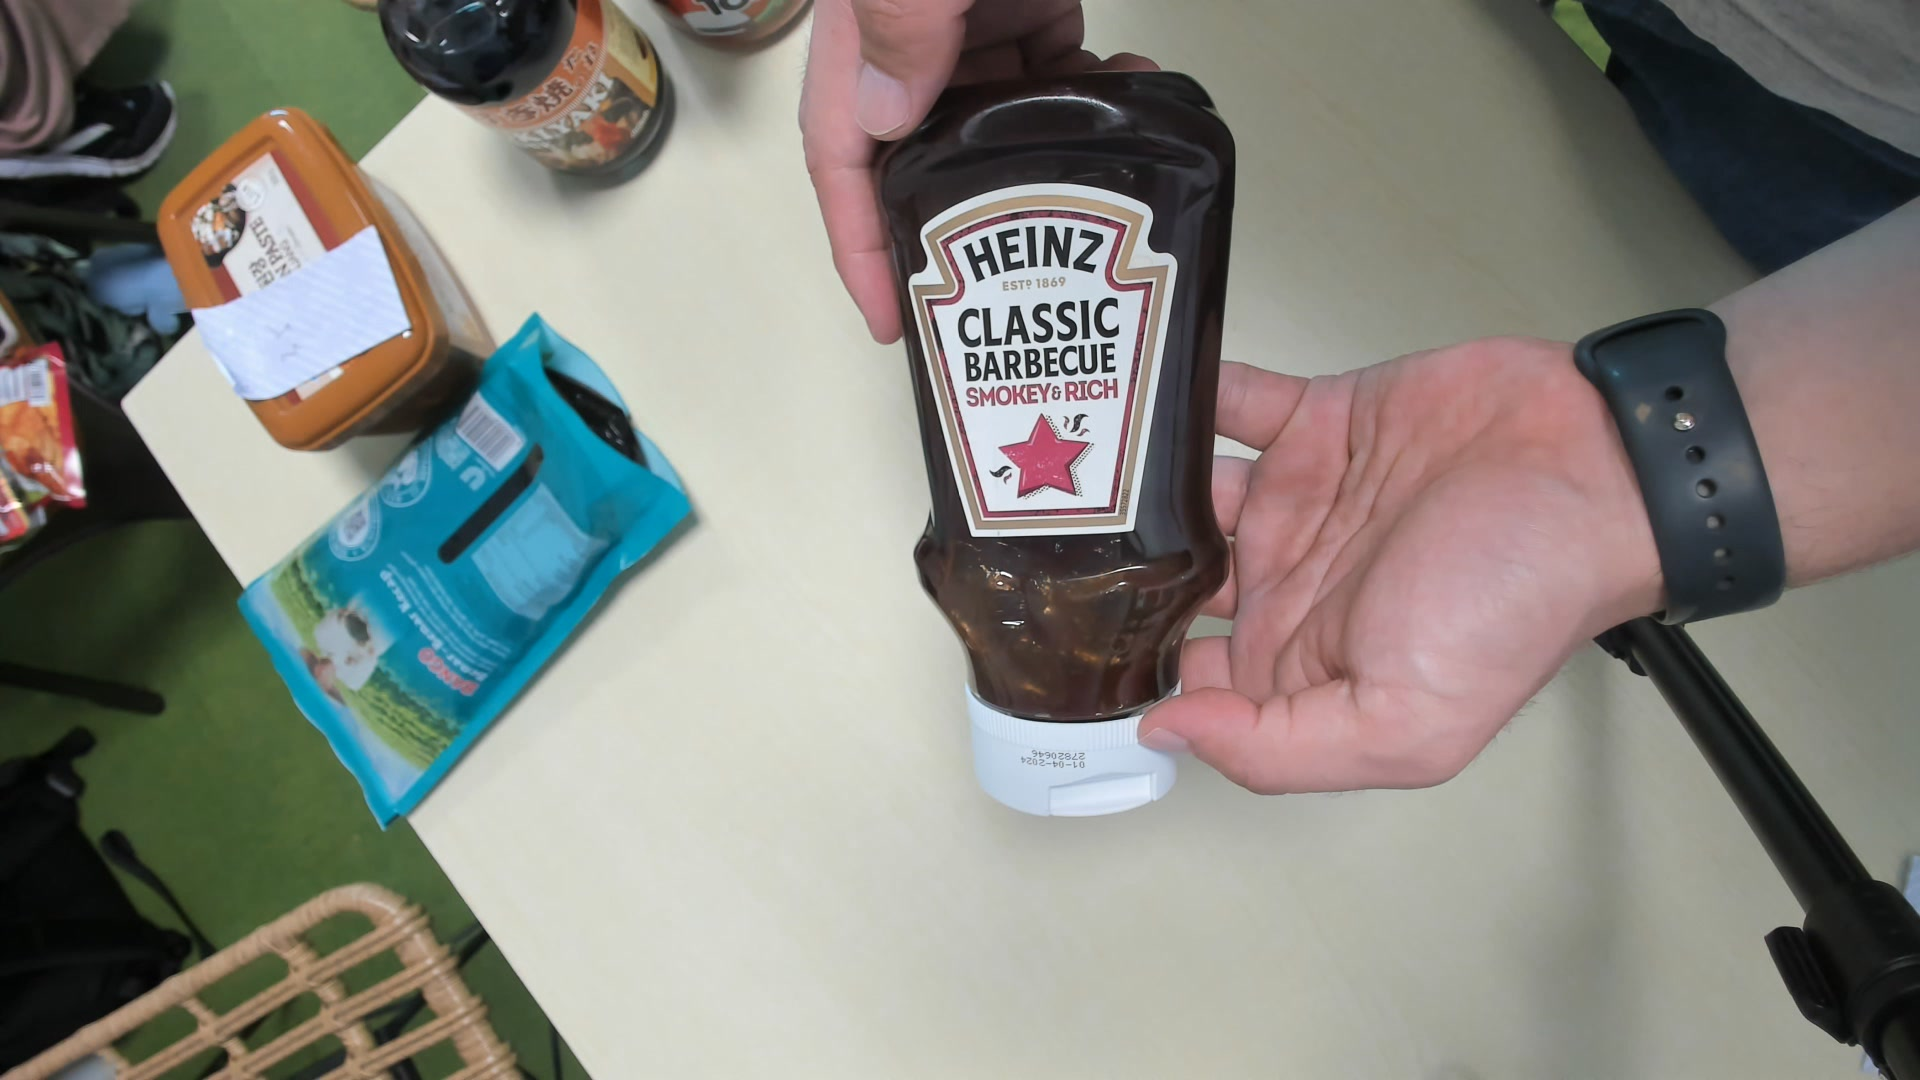OtherSauceDressing_400-499g_NonHalal_NonHealthy: (872, 76, 1237, 832)
